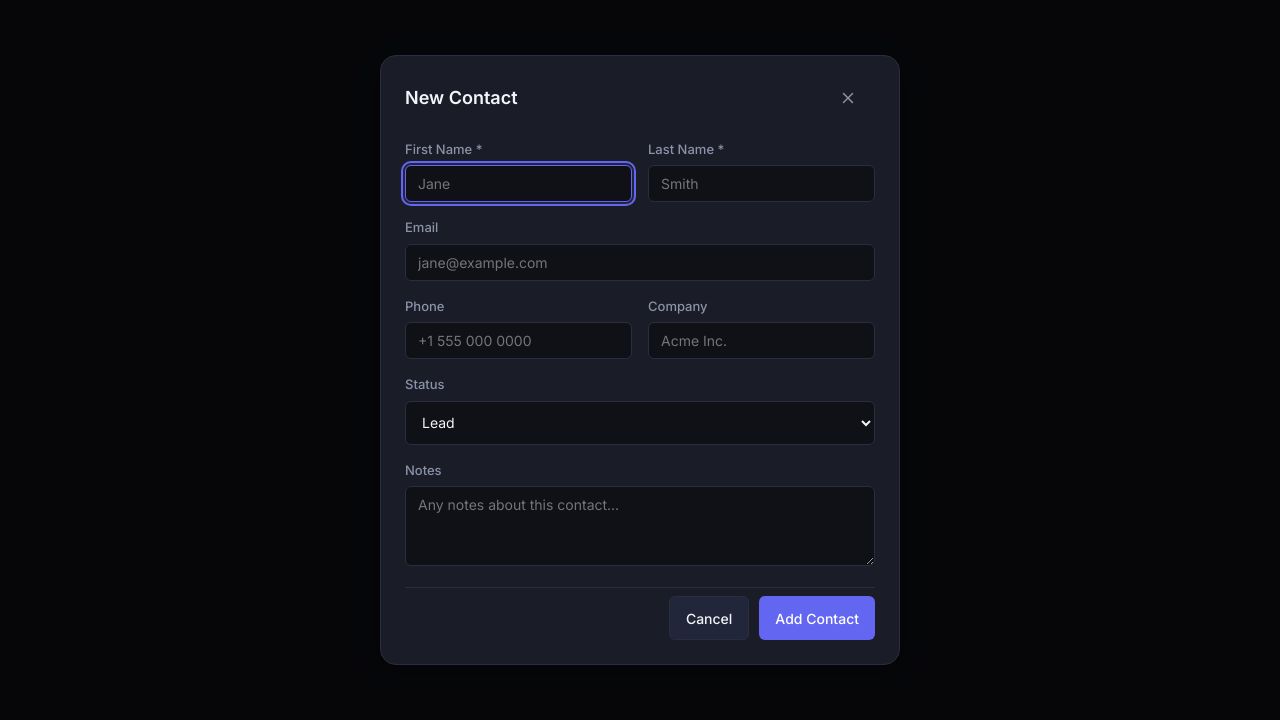
Test case: ContactForm › shows validation errors on empty submit
Click the button with test id "submit-btn" at (817, 618), box [759,596,875,640]
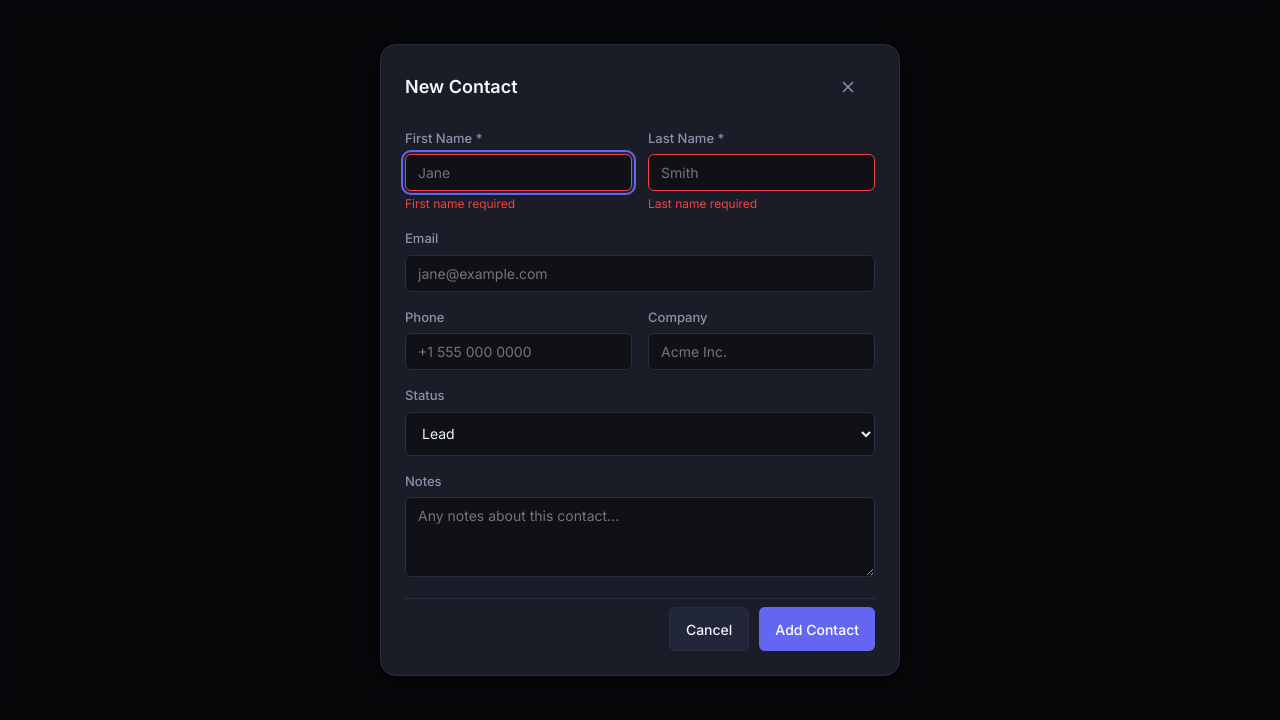
Result: the text "First name required" is shown at [405,196,515,211]
